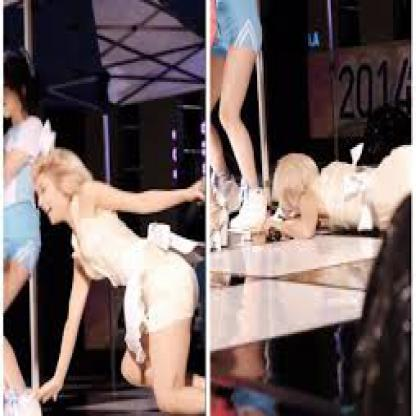Fall_Down: (24, 147, 205, 414)
